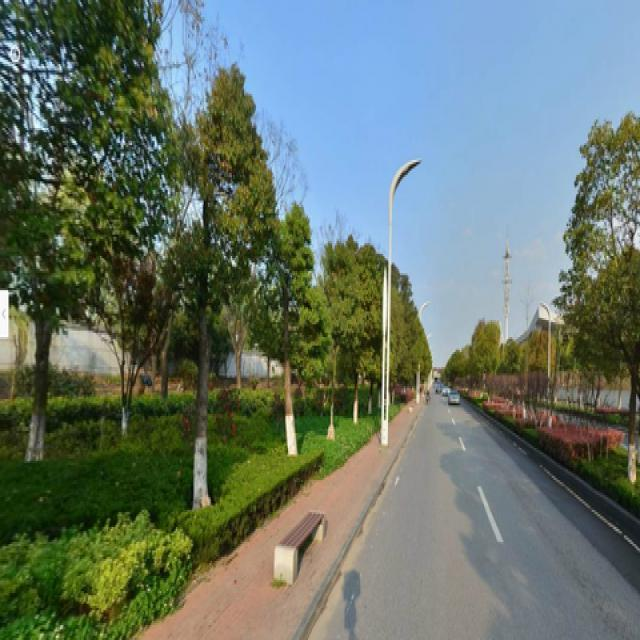cinn: (170, 120, 246, 473), (268, 224, 305, 429)
